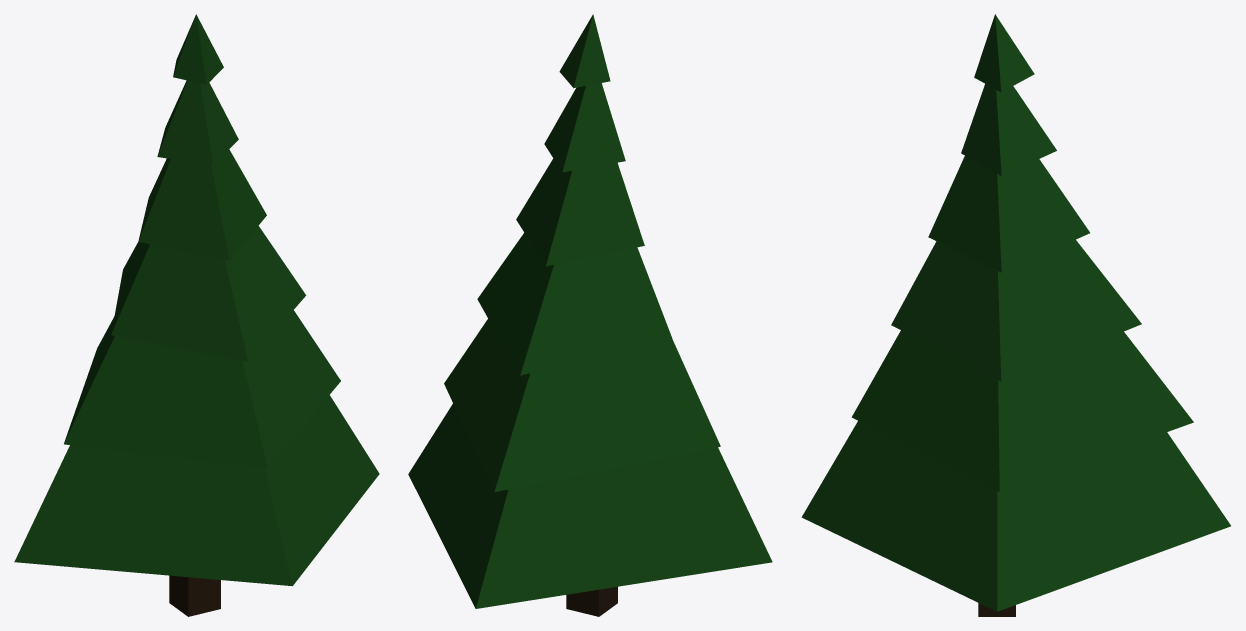
Rendered from lowpolytree3.fbx.
The picture shows the model from 3 angles, left to right: view 1: azimuth 30°, elevation 25°; view 2: azimuth 150°, elevation 25°; view 3: azimuth 270°, elevation 25°; orthographic projection.
Parts seen in each view (by area): view 1: merge1; view 2: merge1; view 3: merge1.
Part boxes in pixels (bbox=[...]): merge1: bbox=[14, 14, 379, 616]; merge1: bbox=[408, 14, 772, 616]; merge1: bbox=[801, 14, 1230, 616].
Bounding box in the file's own units: 1.12 × 1.73 × 1.13.
